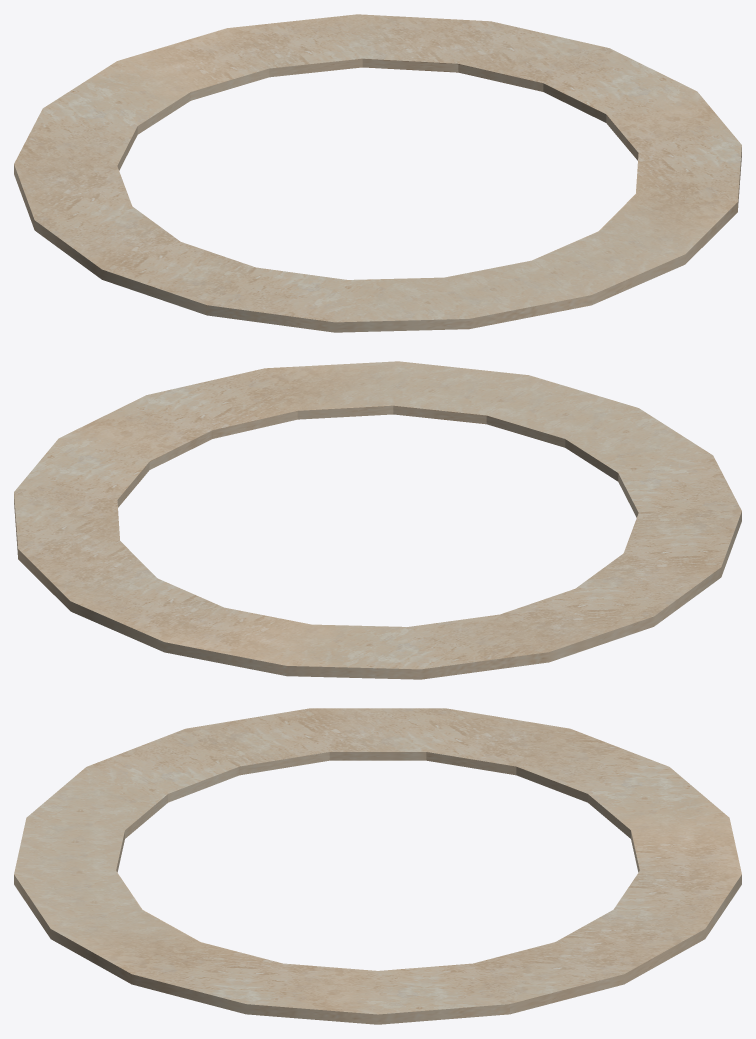
The model's file is Stage.fbx.
The picture shows the model from 3 angles, top to bottom: view 1: azimuth 30°, elevation 25°; view 2: azimuth 150°, elevation 25°; view 3: azimuth 270°, elevation 25°; orthographic projection.
Parts seen in each view (by area): view 1: field; view 2: field; view 3: field.
Boxes of the visible parts, x1,y1,x2,y2 form: field: [14, 14, 741, 332]; field: [14, 361, 741, 679]; field: [14, 708, 741, 1024].
Bounding box in the file's own units: 1279 × 20 × 1284.
1 material, 1 textured.
